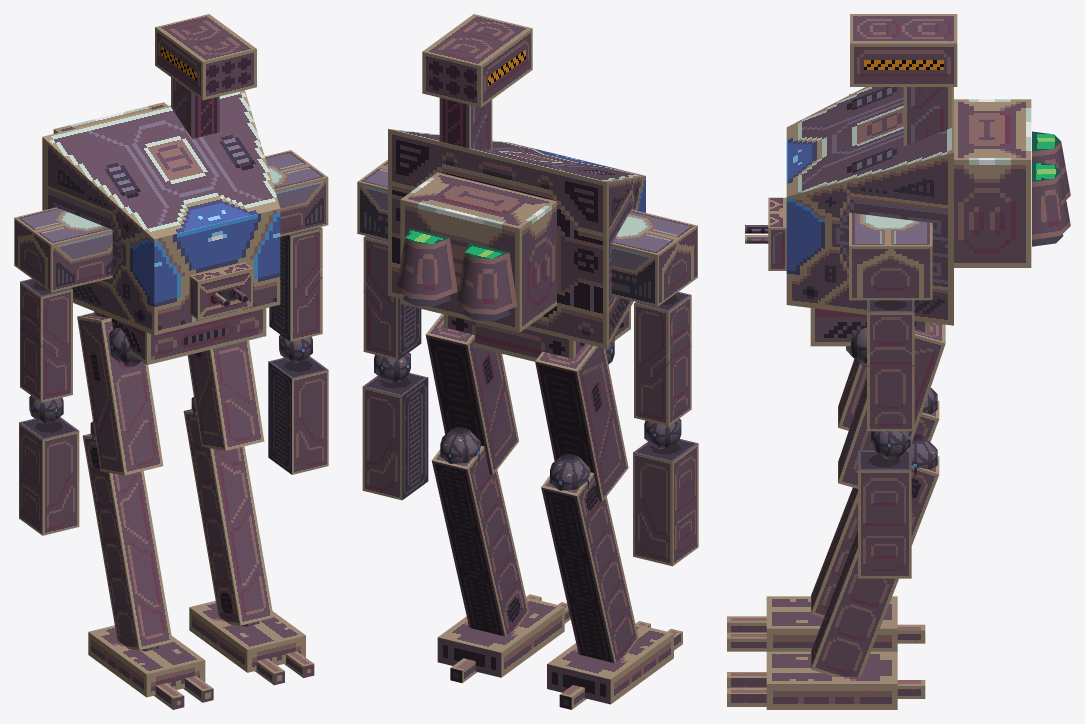
Rendered from mech_boi_timber.gltf.
The picture shows the model from 3 angles, left to right: view 1: azimuth 30°, elevation 25°; view 2: azimuth 150°, elevation 25°; view 3: azimuth 270°, elevation 25°; orthographic projection. The views are drawn at different scales.
Visible parts, largest first — view 1: Torso-head, L_shin, R_shin, R_thigh, missile mount, R_shoulder, L_forearm, RL_forearm, L_thigh, RL_upper_arm, R_foot, L_foot (+8 smaller); view 2: Torso-head, jetpack, L_shin, R_shin, missile mount, R_thigh, L_thigh, L_forearm, RL_forearm, RL_upper_arm, R_shoulder, R_foot (+8 smaller); view 3: Torso-head, jetpack, missile mount, L_foot, L_shin, L_shoulder, L_forearm, L_upper_arm, R_foot, L_thigh, R_shin, root_Pelvis (+5 smaller).
Boxes of the visible parts, left/top/right/bottom form: Torso-head: left=42, top=90, right=280, bottom=335; L_shin: left=183, top=409, right=273, bottom=625; R_shin: left=82, top=433, right=172, bottom=650; R_thigh: left=77, top=312, right=163, bottom=475; missile mount: left=155, top=14, right=256, bottom=138; R_shoulder: left=14, top=207, right=112, bottom=292; L_forearm: left=268, top=356, right=328, bottom=474; RL_forearm: left=19, top=417, right=79, bottom=535; L_thigh: left=187, top=340, right=264, bottom=450; RL_upper_arm: left=20, top=278, right=72, bottom=402; R_foot: left=88, top=625, right=213, bottom=709; L_foot: left=189, top=601, right=314, bottom=685; Torso-head: left=388, top=129, right=645, bottom=348; jetpack: left=396, top=172, right=556, bottom=332; L_shin: left=431, top=445, right=529, bottom=636; R_shin: left=541, top=472, right=638, bottom=662; missile mount: left=422, top=14, right=532, bottom=149; R_thigh: left=535, top=343, right=628, bottom=501; L_thigh: left=425, top=314, right=518, bottom=475; L_forearm: left=362, top=373, right=428, bottom=500; RL_forearm: left=633, top=439, right=698, bottom=566; RL_upper_arm: left=634, top=292, right=691, bottom=426; R_shoulder: left=611, top=209, right=697, bottom=306; R_foot: left=547, top=621, right=682, bottom=709; Torso-head: left=786, top=87, right=953, bottom=325; jetpack: left=954, top=99, right=1070, bottom=267; missile mount: left=850, top=14, right=957, bottom=146; L_foot: left=727, top=651, right=925, bottom=709; L_shin: left=811, top=456, right=939, bottom=676; L_shoulder: left=849, top=212, right=932, bottom=300; L_forearm: left=858, top=450, right=911, bottom=578; L_upper_arm: left=867, top=300, right=914, bottom=431; R_foot: left=727, top=596, right=925, bottom=651; L_thigh: left=838, top=322, right=945, bottom=488; R_shin: left=811, top=400, right=939, bottom=617; root_Pelvis: left=810, top=308, right=929, bottom=346.
Size of the model in its own units: 3.12 by 6.12 by 2.88.
Materials: 7 (7 with a texture image).
